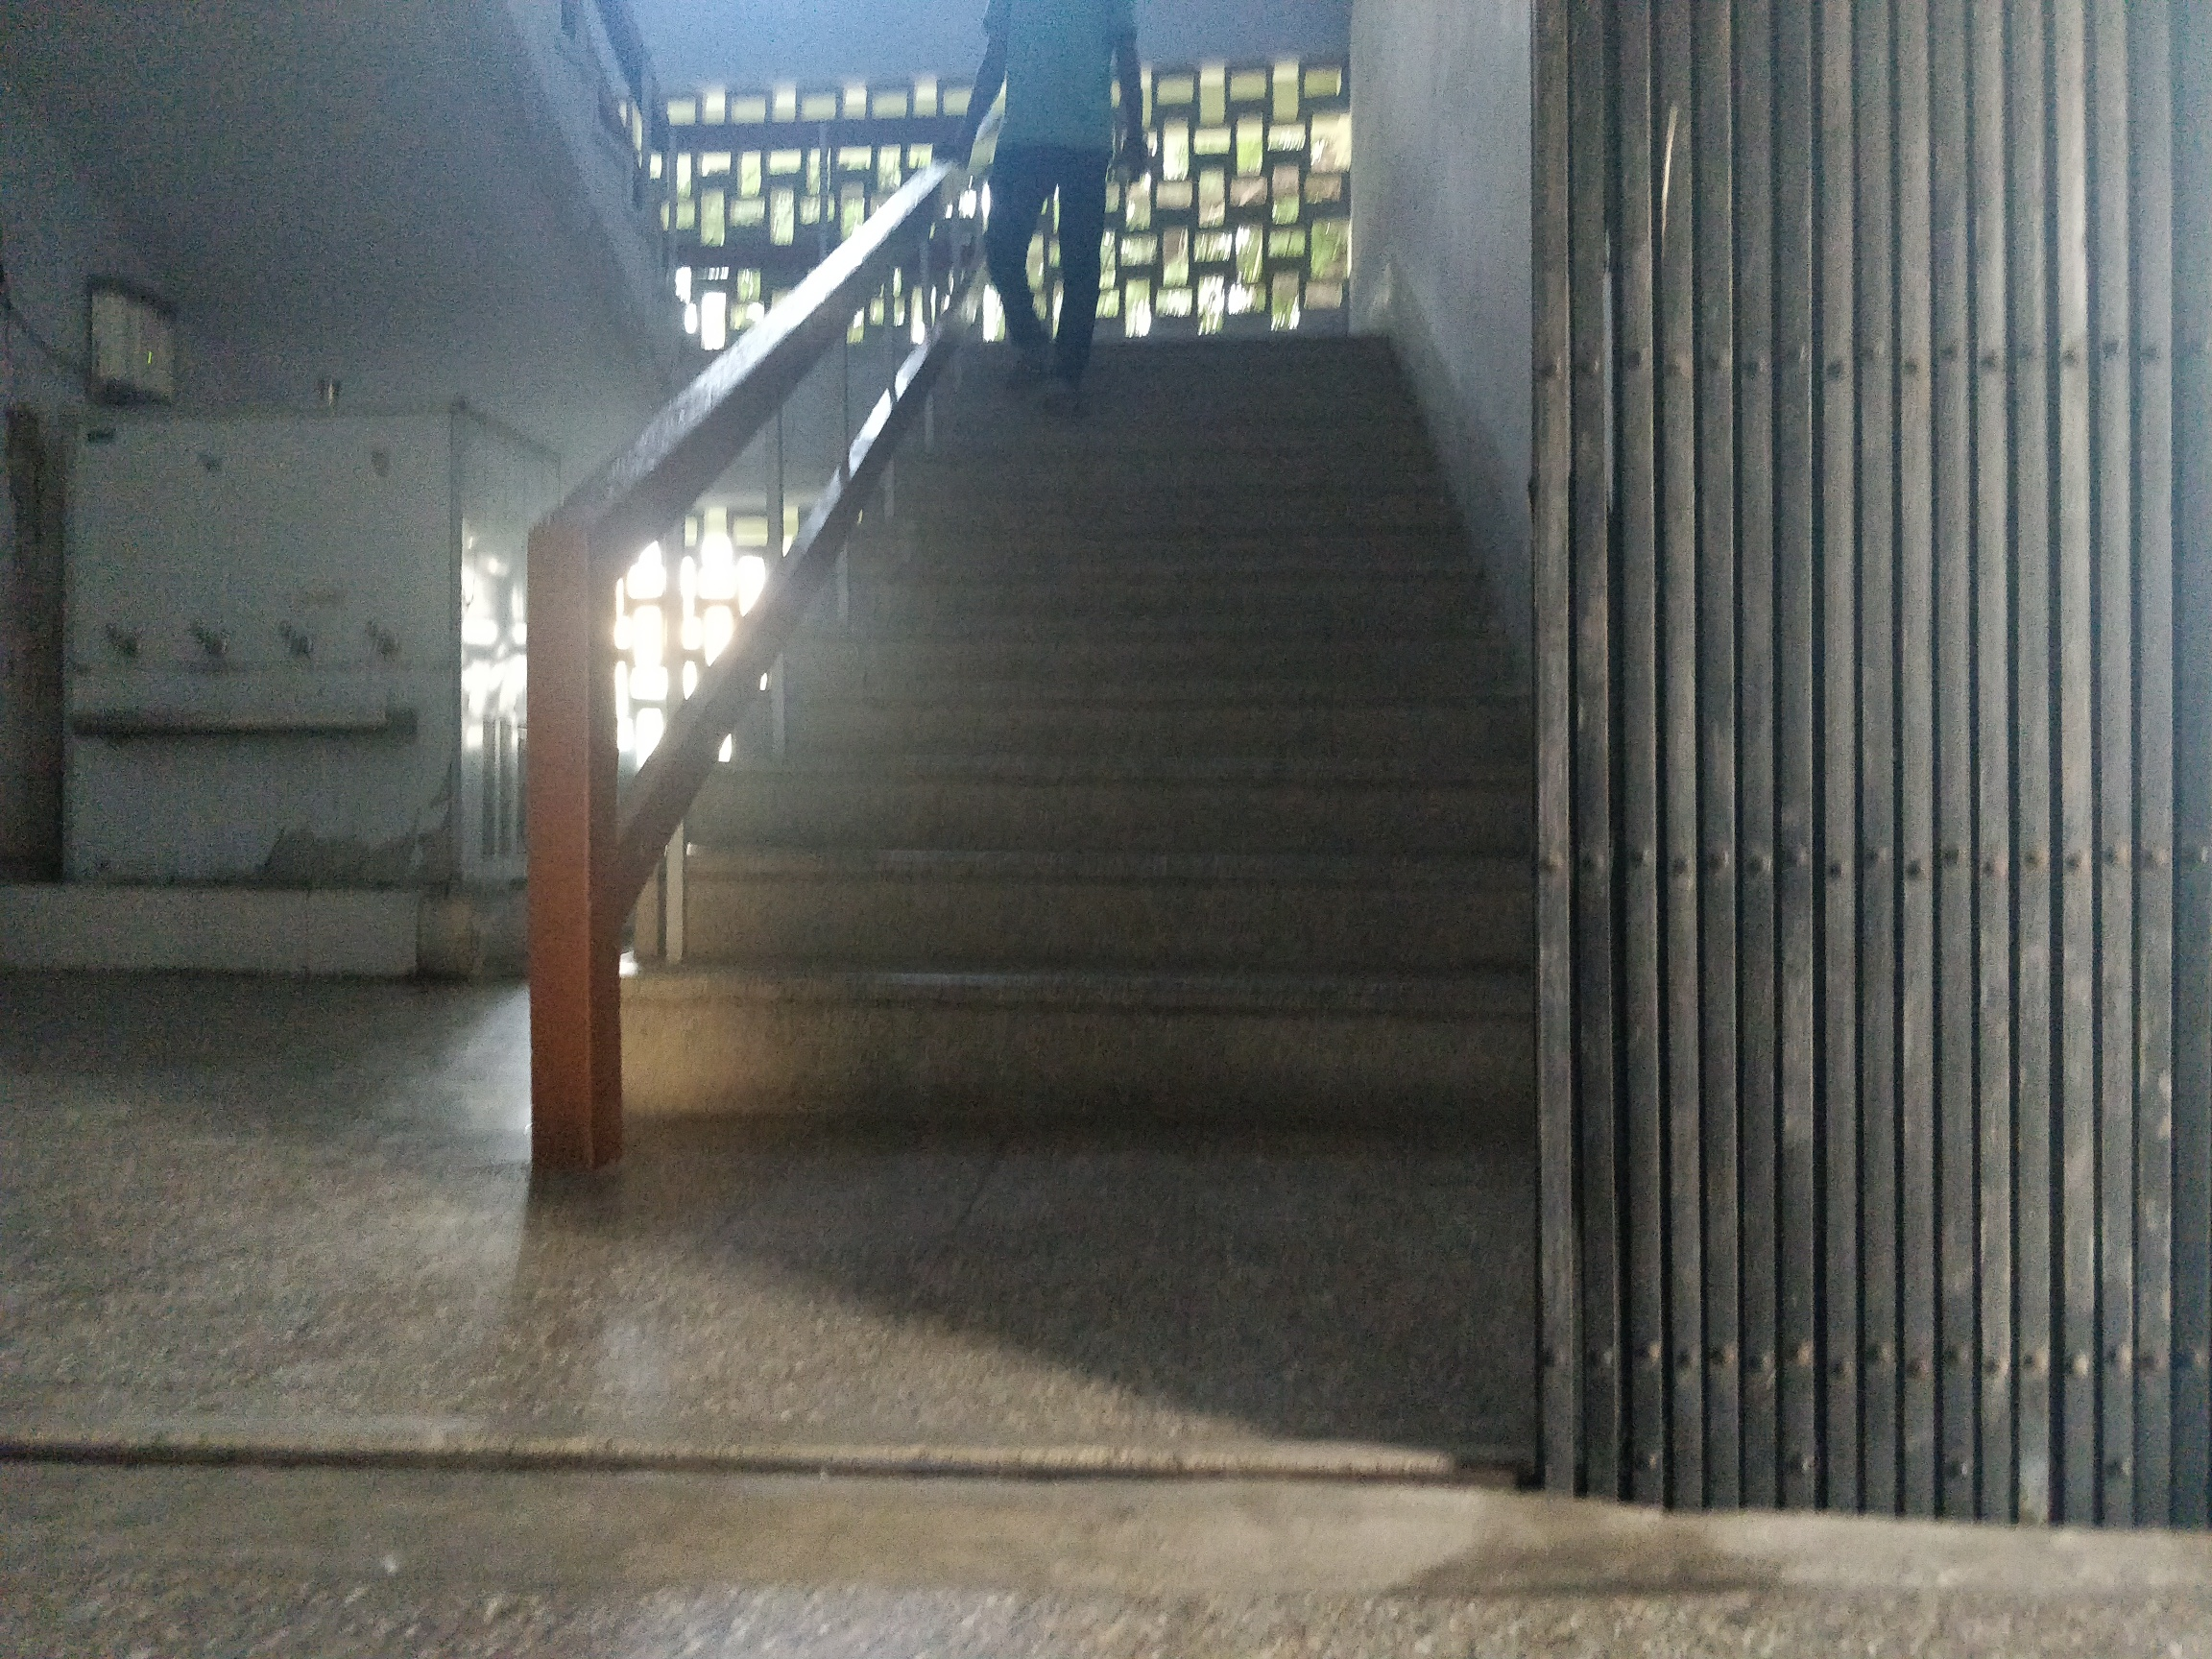stairs_up: (650, 359, 1548, 1115)
